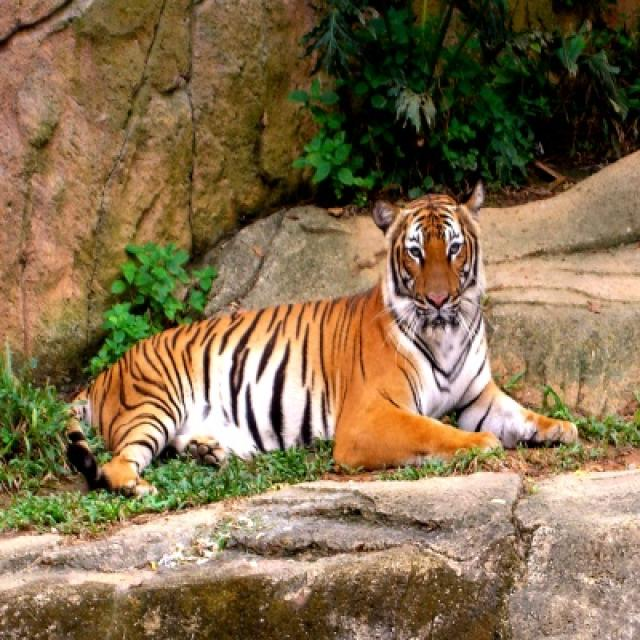Tiger: (65, 190, 580, 503)
